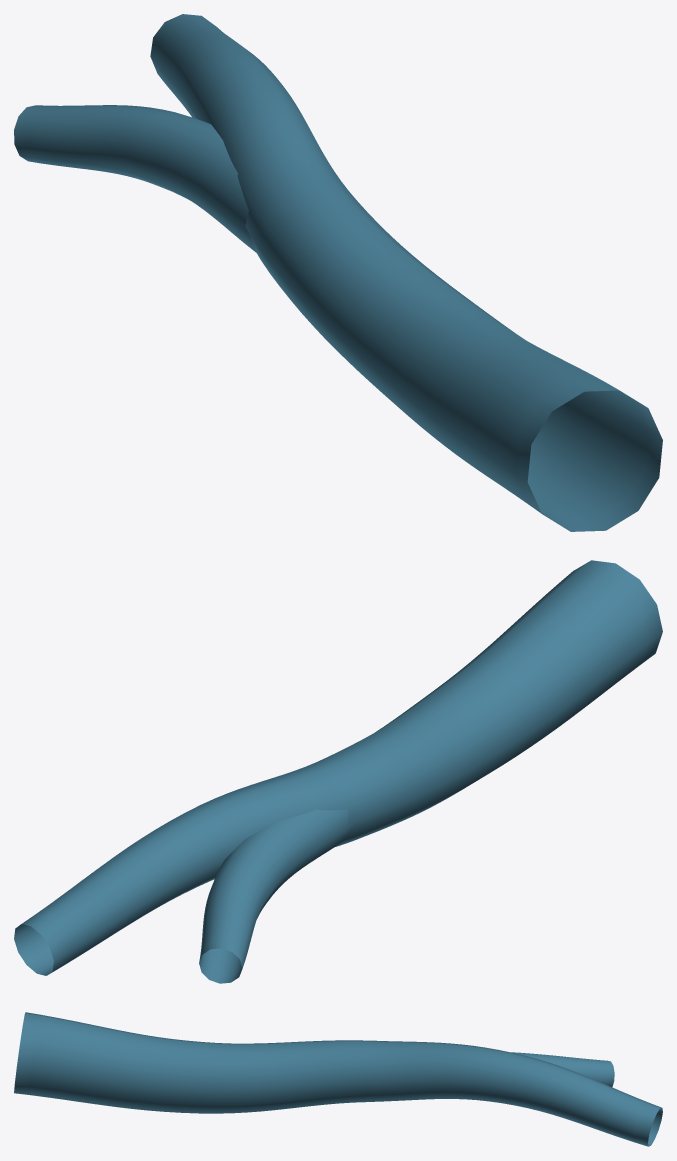
3 views of the same model, one above another, from view 1: azimuth 30°, elevation 25°; view 2: azimuth 150°, elevation 25°; view 3: azimuth 270°, elevation 25° (orthographic). The views are drawn at different scales.
Parts seen in each view (by area): view 1: 右肺内侧底段支气管（第7段）; view 2: 右肺内侧底段支气管（第7段）; view 3: 右肺内侧底段支气管（第7段）.
Part boxes in pixels (x1,y1,x2,y2): 右肺内侧底段支气管（第7段）: [14, 14, 662, 531]; 右肺内侧底段支气管（第7段）: [14, 560, 662, 983]; 右肺内侧底段支气管（第7段）: [14, 1012, 662, 1146].
Size of the model in its own units: 0.0239 by 0.0139 by 0.0918.
